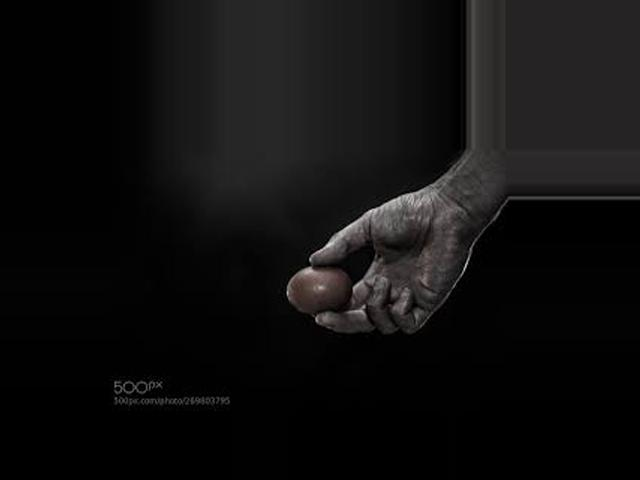egg: (287, 264, 354, 313)
